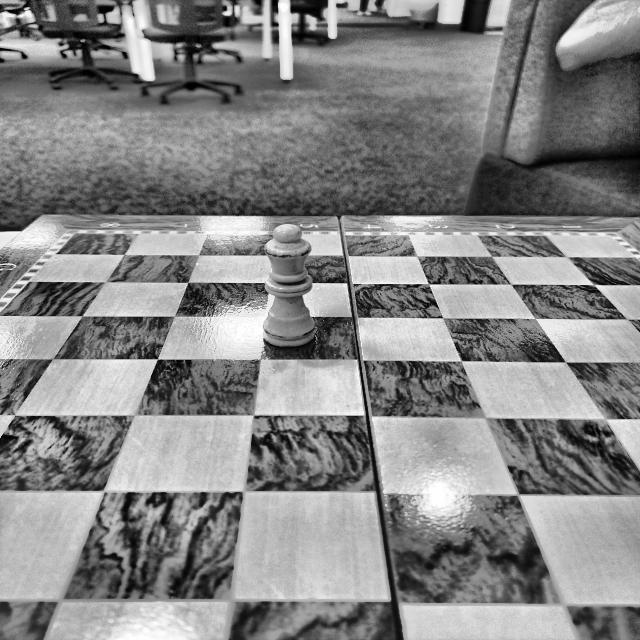white-queen: (261, 223, 316, 348)
